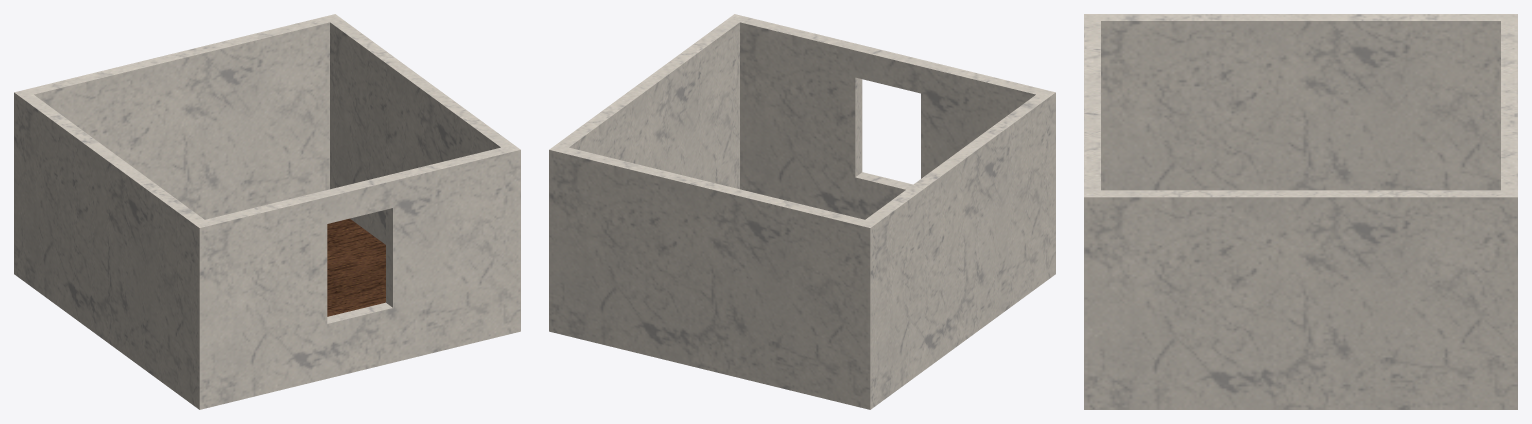
Rendered from room1.gltf.
The picture shows the model from 3 angles, left to right: view 1: azimuth 30°, elevation 25°; view 2: azimuth 150°, elevation 25°; view 3: azimuth 270°, elevation 25°; orthographic projection. The views are drawn at different scales.
Parts seen in each view (by area): view 1: Plane; view 2: Plane; view 3: Plane.
Boxes of the visible parts, x1,y1,x2,y2 form: Plane: (14, 14, 520, 409); Plane: (549, 14, 1055, 409); Plane: (1084, 14, 1517, 409).
Bounding box in the file's own units: 14.36 × 7.76 × 14.36.
Materials: 1 (1 with a texture image).
